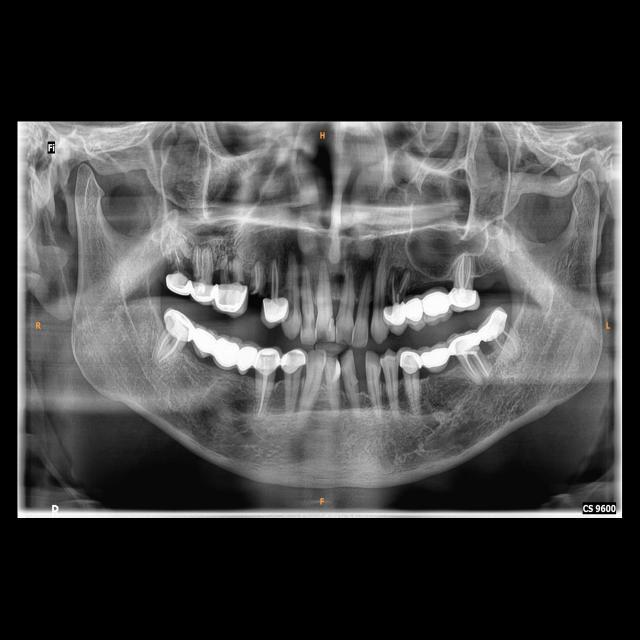kanal-tedavisi: (254, 368, 273, 418), (462, 353, 489, 381), (192, 245, 213, 280), (453, 252, 474, 287), (494, 331, 519, 357), (388, 268, 408, 300), (160, 330, 177, 362), (248, 264, 266, 292), (269, 259, 280, 296)
kaplama: (160, 309, 194, 342), (257, 294, 290, 328), (477, 307, 509, 342), (208, 284, 250, 310), (277, 342, 305, 372), (450, 284, 479, 312), (256, 344, 281, 375), (448, 330, 480, 353), (164, 271, 194, 293), (189, 280, 216, 304), (398, 350, 423, 374), (387, 301, 404, 329)
kopru: (186, 319, 265, 386), (404, 288, 456, 324), (414, 344, 459, 378)
